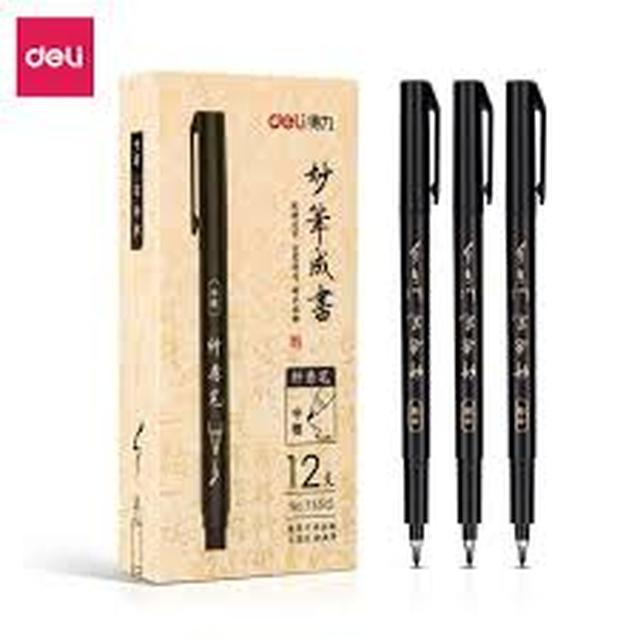pen: (375, 77, 440, 567), (514, 66, 564, 564), (442, 76, 492, 573)
